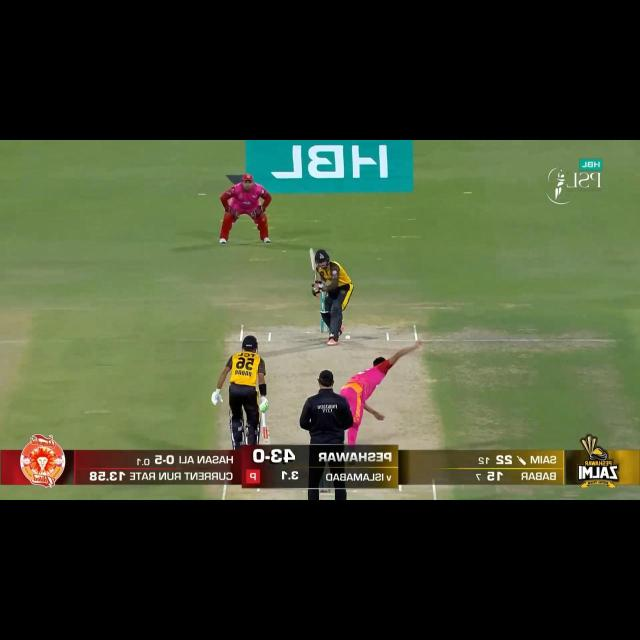bat: (308, 247, 319, 283), (261, 427, 270, 445)
toe: (306, 245, 317, 255)
